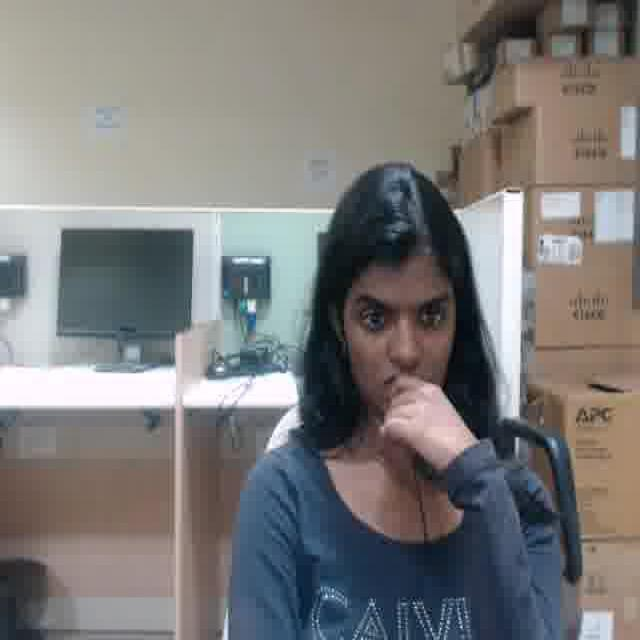Confusion: (345, 253, 453, 423)
